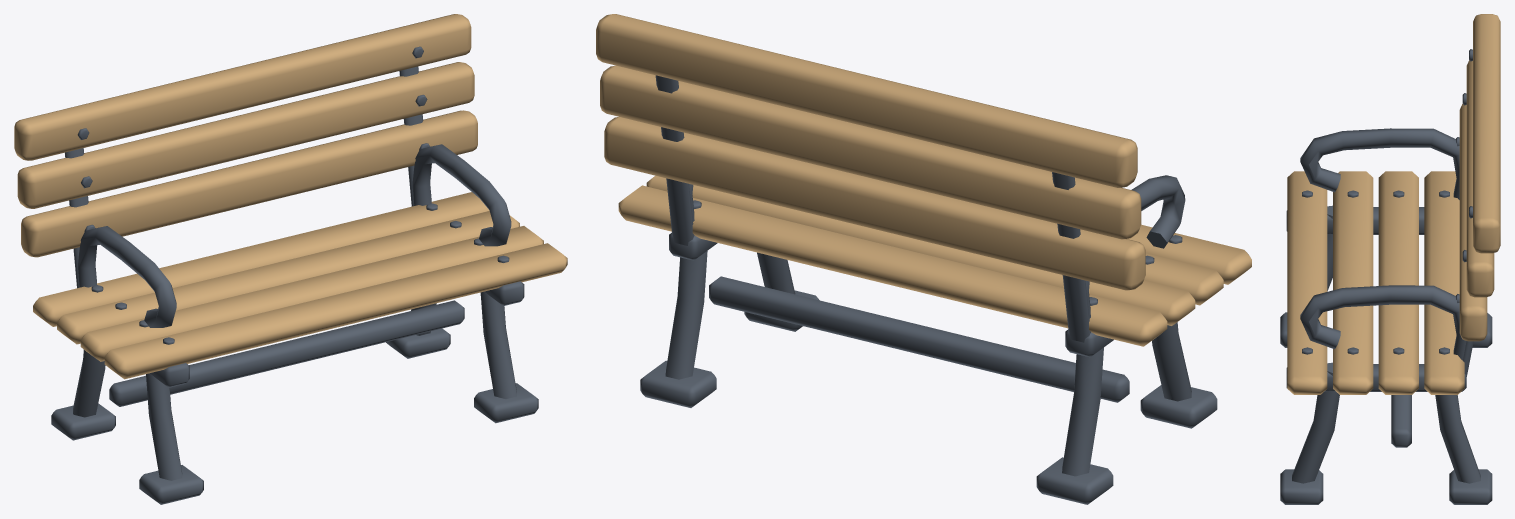
File: fine_bench.glb
The picture shows the model from 3 angles, left to right: view 1: azimuth 30°, elevation 25°; view 2: azimuth 150°, elevation 25°; view 3: azimuth 270°, elevation 25°; orthographic projection. The views are drawn at different scales.
Parts seen in each view (by area): view 1: fine_bench_structure; view 2: fine_bench_structure; view 3: fine_bench_structure.
Part boxes in pixels (x1,y1,x2,y2): fine_bench_structure: (14,14,567,504); fine_bench_structure: (596,14,1251,504); fine_bench_structure: (1280,14,1500,504).
Size of the model in its own units: 1.8 by 1.2 by 0.795.
